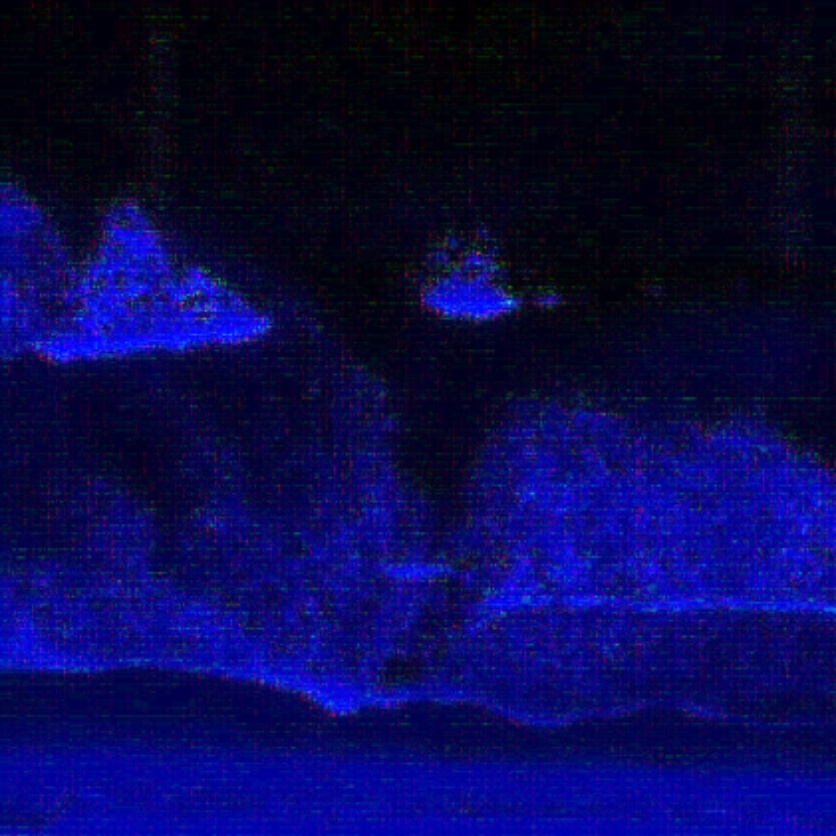rip_current: (304, 254, 571, 686)
